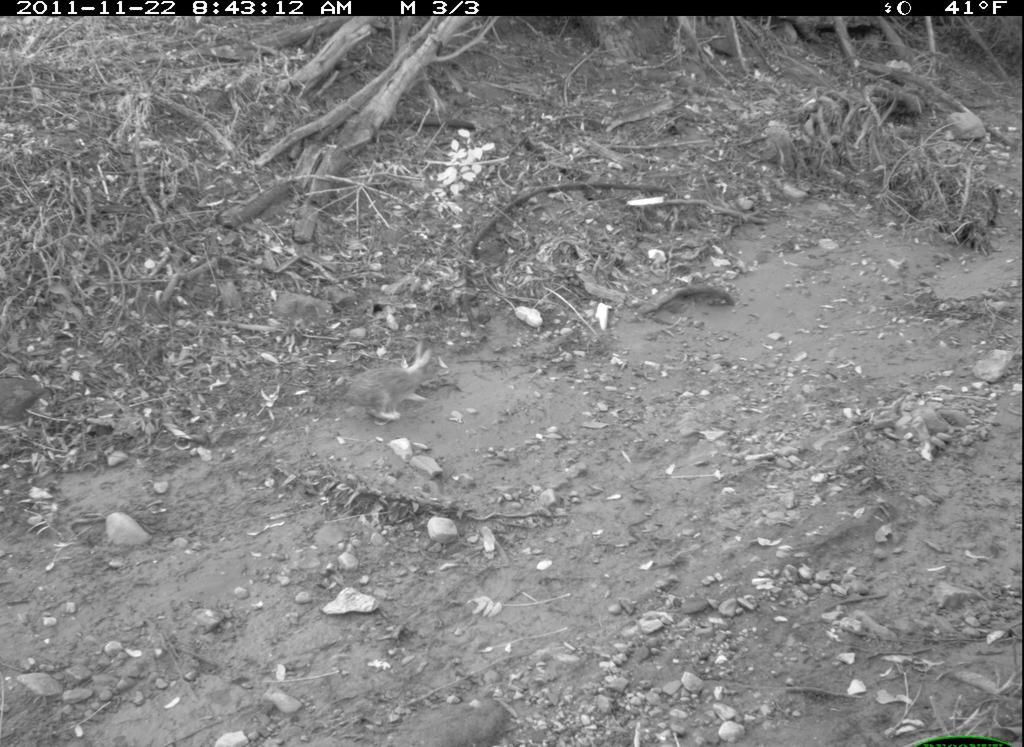rabbit: (340, 342, 449, 434)
